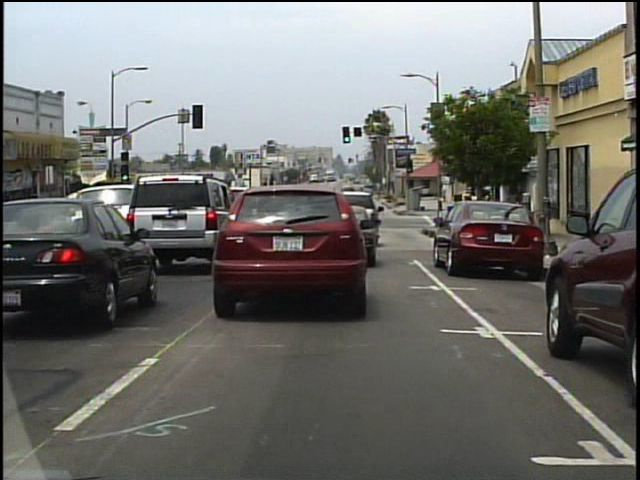person: (474, 194, 487, 239), (461, 193, 473, 238)
